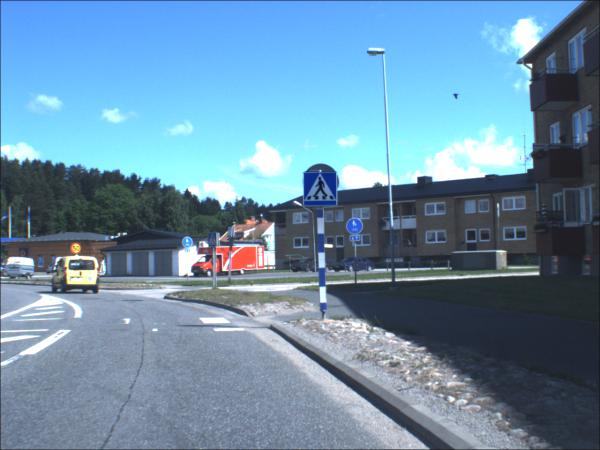50_SIGN: (71, 243, 83, 256)
PEDESTRIAN_CROSSING: (305, 172, 338, 208), (210, 234, 218, 248), (229, 229, 233, 239)
